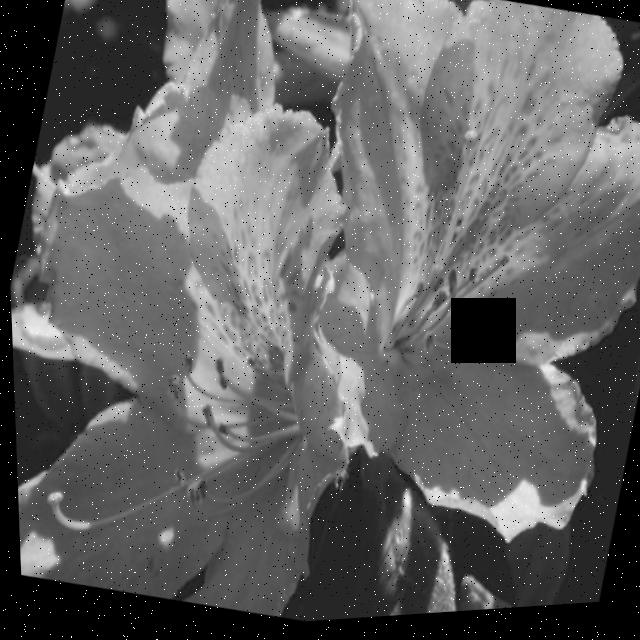azalea: (3, 67, 410, 639), (248, 0, 640, 578)
